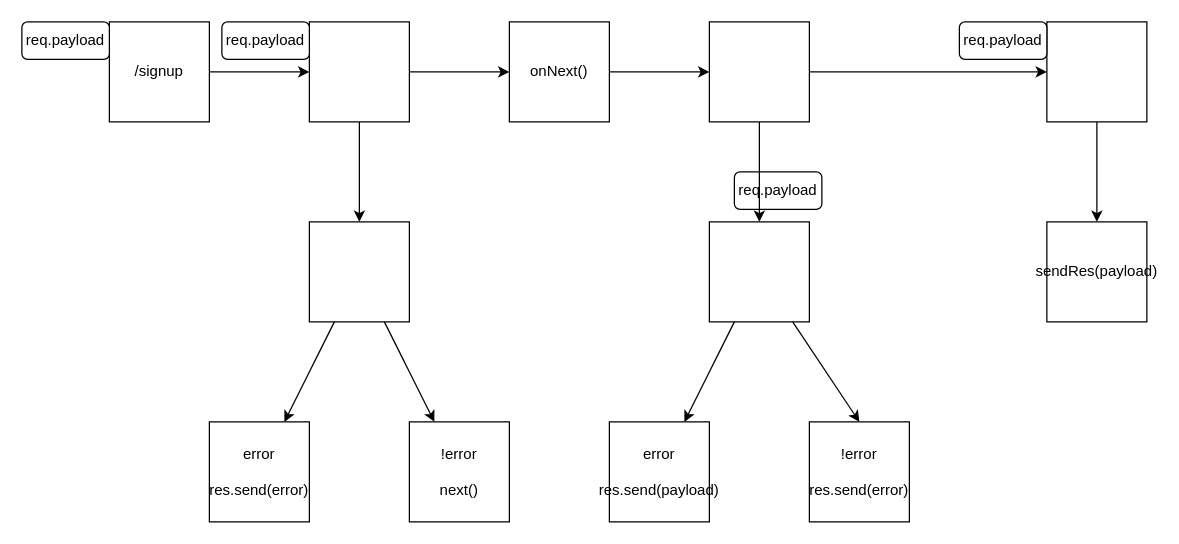
Some shapes in this 1179 by 544 pixel diagram are drawn without their labels. The shapes that lost their labels are listed below. From the top down, each one's box as (x1, y1, x2, y2) in pixels, then its label:
(308, 21, 409, 122): validator (blackbox)
(708, 21, 809, 122): Signup Controller (no logic)
(1046, 21, 1147, 122): Signup Service (blackbox)
(308, 221, 409, 322): validate payload (blackbox)
(708, 221, 809, 322): onSendRes(payload)
